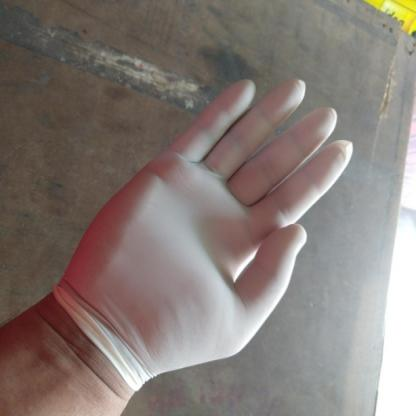gloved_hand: (50, 74, 359, 398)
